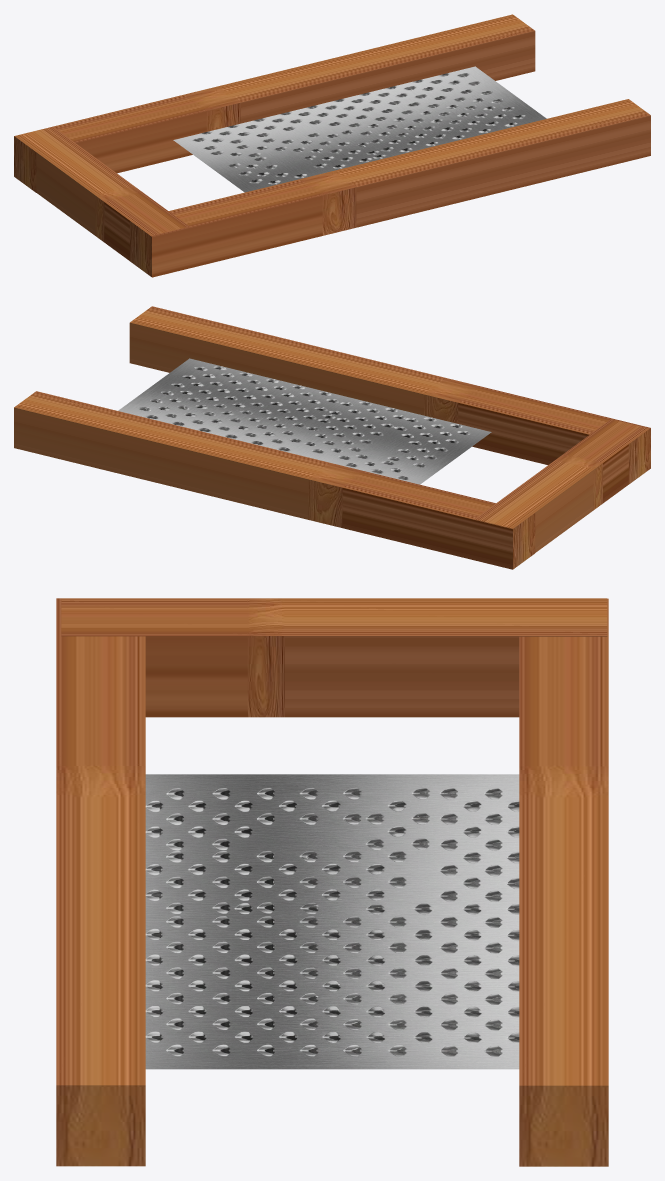
Rendered from parutan-kelapa.glb.
The picture shows the model from 3 angles, top to bottom: view 1: azimuth 30°, elevation 25°; view 2: azimuth 150°, elevation 25°; view 3: azimuth 270°, elevation 25°; orthographic projection. The views are drawn at different scales.
Visible parts, largest first — view 1: Cube.003; view 2: Cube.003; view 3: Cube.003.
Boxes of the visible parts, left/top/right/bottom form: Cube.003: left=14, top=14, right=650, bottom=277; Cube.003: left=14, top=306, right=650, bottom=569; Cube.003: left=56, top=598, right=608, bottom=1166.
Size of the model in its own units: 25.73 by 2.01 by 12.34.
Materials: 2 (2 with a texture image).
